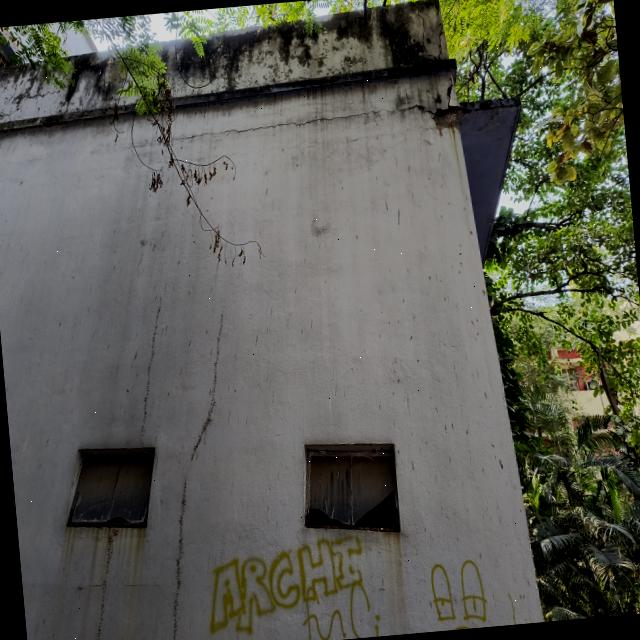Broken window pane: (303, 442, 402, 535), (66, 447, 156, 526)
Crack: (173, 103, 434, 141), (413, 2, 444, 86), (446, 72, 459, 108), (424, 89, 437, 111)
Graffiti: (207, 531, 386, 640), (430, 557, 488, 630)
Moss growth due to damping: (0, 0, 456, 139)
Spalling: (433, 107, 470, 133)
